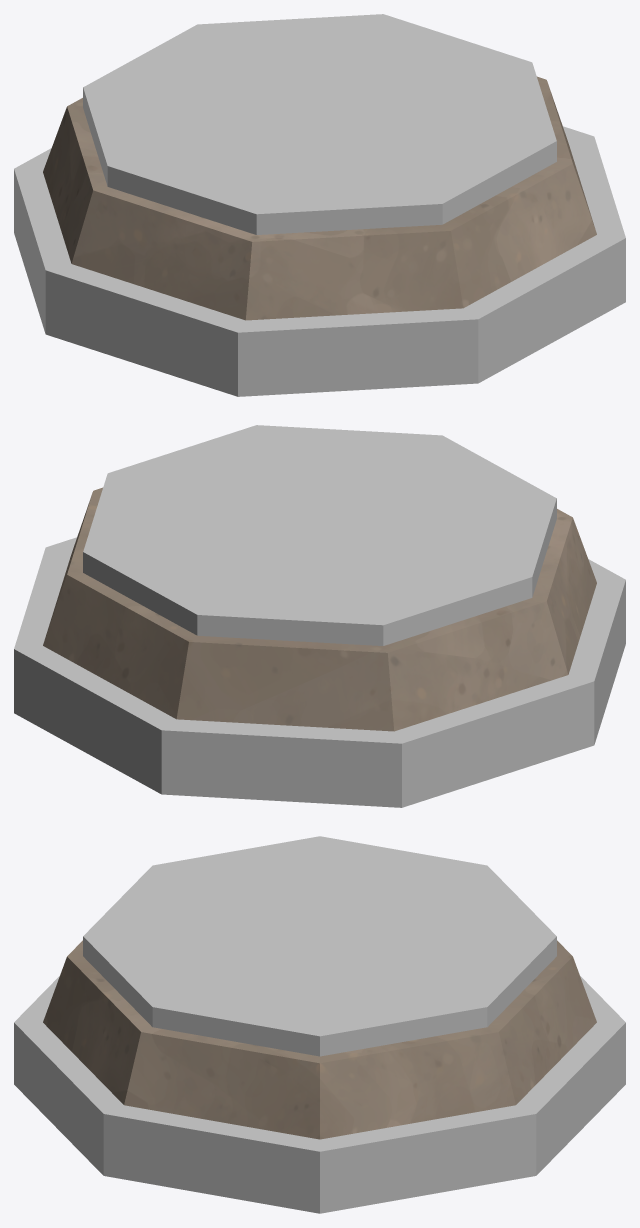
The model's file is Pillar_2.fbx.
The picture shows the model from 3 angles, top to bottom: view 1: azimuth 30°, elevation 25°; view 2: azimuth 150°, elevation 25°; view 3: azimuth 270°, elevation 25°; orthographic projection. The views are drawn at different scales.
Visible parts, largest first — view 1: _Pillar_2; view 2: _Pillar_2; view 3: _Pillar_2.
Part boxes in pixels (<box>): _Pillar_2: <box>14,14,625,396</box>; _Pillar_2: <box>14,425,625,807</box>; _Pillar_2: <box>14,836,625,1213</box>.
Bounding box in the file's own units: 140 × 37.4 × 140.
